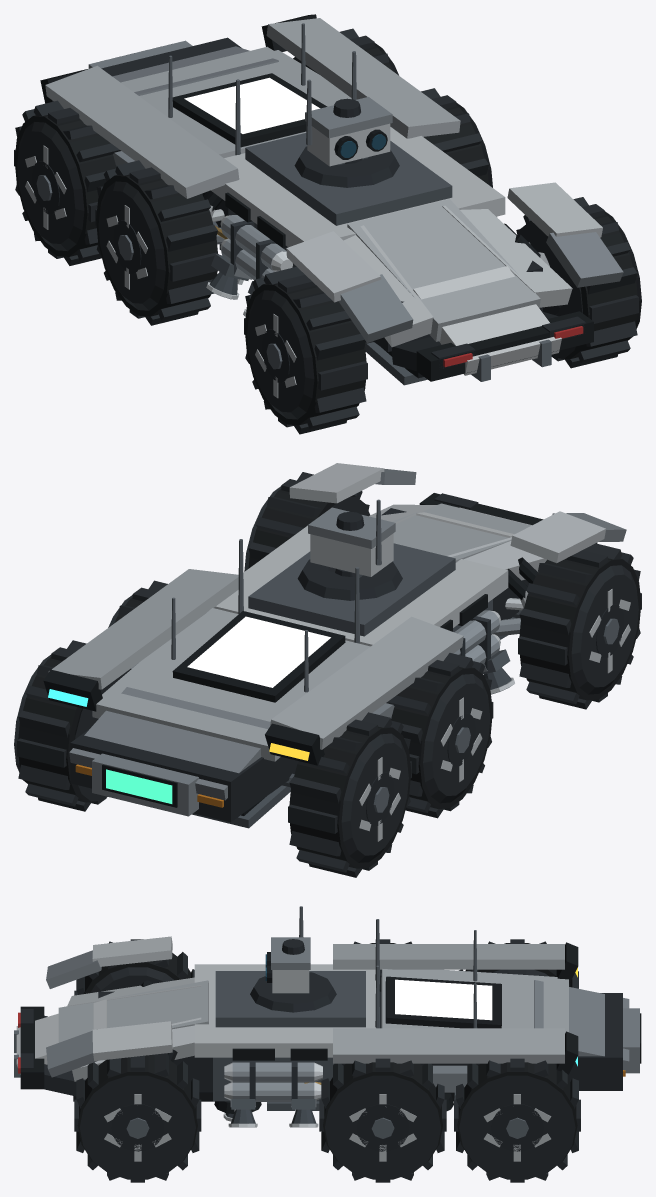
File: r47x_recon_rover_d0_lod0.glb
3 renders of one model, top to bottom at view 1: azimuth 30°, elevation 25°; view 2: azimuth 150°, elevation 25°; view 3: azimuth 270°, elevation 25°, orthographic. The views are drawn at different scales.
Visible parts, largest first — view 1: CHASSIS_ARMOR_BODY, WHEEL_FL, WHEEL_ML, WHEEL_RL, WHEEL_FR, SENSOR_MAST_HEAD, DISPLAY_FDAI_TELEMETRY_PANEL, WHEEL_MR, THRUSTER_L_RL, WHEEL_RR; view 2: CHASSIS_ARMOR_BODY, WHEEL_FL, WHEEL_RL, WHEEL_ML, WHEEL_RR, DISPLAY_FDAI_TELEMETRY_PANEL, SENSOR_MAST_HEAD, WHEEL_FR, SUSP_ARM_FL, DISPLAY_GAS_RESERVE_REAR, THRUSTER_L_FL, WHEEL_MR; view 3: CHASSIS_ARMOR_BODY, WHEEL_FR, WHEEL_MR, WHEEL_RR, DISPLAY_FDAI_TELEMETRY_PANEL, WHEEL_FL, SENSOR_MAST_HEAD, WHEEL_RL, THRUSTER_L_FR, THRUSTER_L_RR.
Boxes of the visible parts, x1,y1,x2,y2 form: CHASSIS_ARMOR_BODY: (40,14,623,385); WHEEL_FL: (244,266,367,434); WHEEL_ML: (95,160,218,325); WHEEL_RL: (14,100,120,265); WHEEL_FR: (516,197,641,368); SENSOR_MAST_HEAD: (305,79,392,166); DISPLAY_FDAI_TELEMETRY_PANEL: (184,77,320,133); WHEEL_MR: (421,88,492,187); THRUSTER_L_RL: (206,254,251,299); WHEEL_RR: (293,28,398,75); CHASSIS_ARMOR_BODY: (43,463,626,828); WHEEL_FL: (518,543,641,709); WHEEL_RL: (288,712,411,877); WHEEL_ML: (386,653,493,818); WHEEL_RR: (14,640,131,811); DISPLAY_FDAI_TELEMETRY_PANEL: (187,616,330,687); SENSOR_MAST_HEAD: (308,499,395,577); WHEEL_FR: (244,472,369,571); SUSP_ARM_FL: (493,557,537,636); DISPLAY_GAS_RESERVE_REAR: (106,769,172,803); THRUSTER_L_FL: (482,649,514,694); WHEEL_MR: (108,580,167,627); CHASSIS_ARMOR_BODY: (14,919,641,1113); WHEEL_FR: (74,1053,201,1182); WHEEL_MR: (319,1058,446,1182); WHEEL_RR: (454,1058,580,1182); DISPLAY_FDAI_TELEMETRY_PANEL: (395,979,492,1020); WHEEL_FL: (74,939,194,995); SENSOR_MAST_HEAD: (265,906,310,993); WHEEL_RL: (459,939,578,988); THRUSTER_L_FR: (228,1099,257,1127); THRUSTER_L_RR: (289,1099,318,1127).
Bounding box in the file's own units: 2.43 × 1.66 × 4.77.
